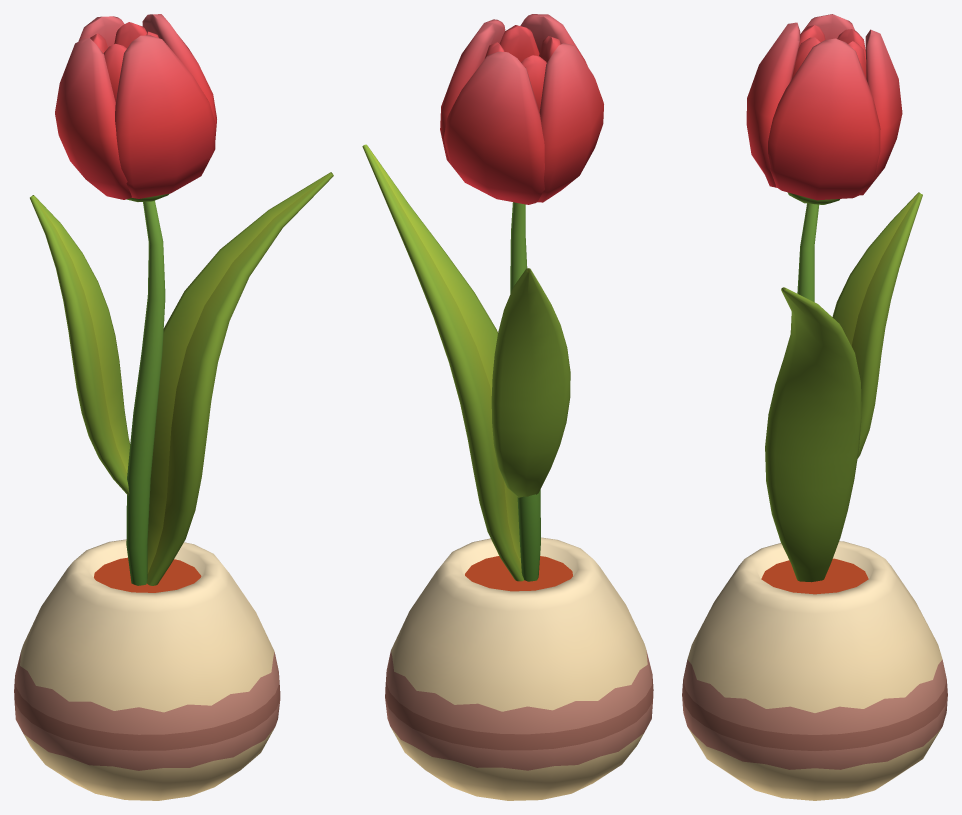
File: Plants_04.glb
3 renders of one model, left to right at view 1: azimuth 30°, elevation 25°; view 2: azimuth 150°, elevation 25°; view 3: azimuth 270°, elevation 25°, orthographic.
Parts seen in each view (by area): view 1: Plants_04; view 2: Plants_04; view 3: Plants_04.
Part boxes in pixels (box(x1,y1,x2,y2)): Plants_04: box(14, 14, 333, 800); Plants_04: box(362, 14, 653, 800); Plants_04: box(682, 14, 947, 800).
Bounding box in the file's own units: 0.1789 × 0.4414 × 0.1448.
Materials: 1 (1 with a texture image).
